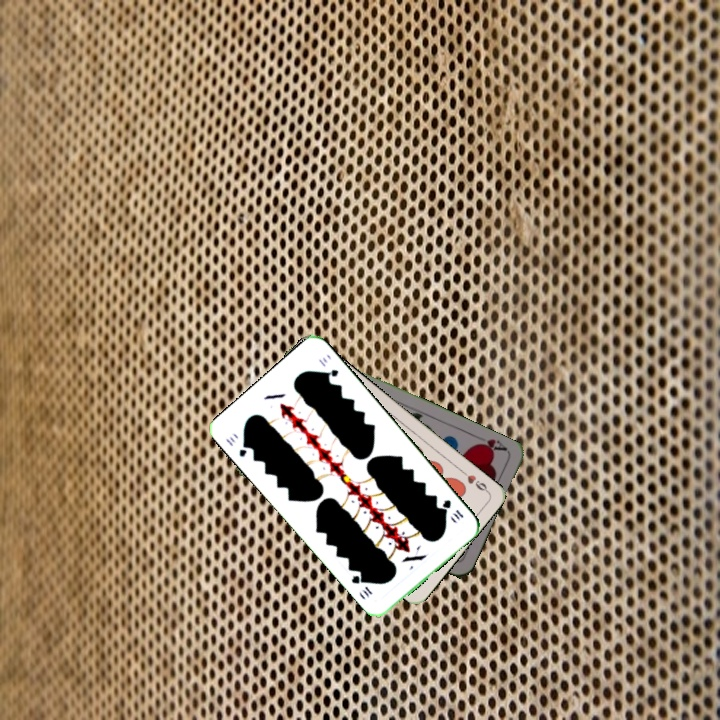G10: (221, 432, 252, 460), (438, 495, 466, 523)
H9: (456, 466, 491, 495)
HA: (471, 435, 510, 456)
